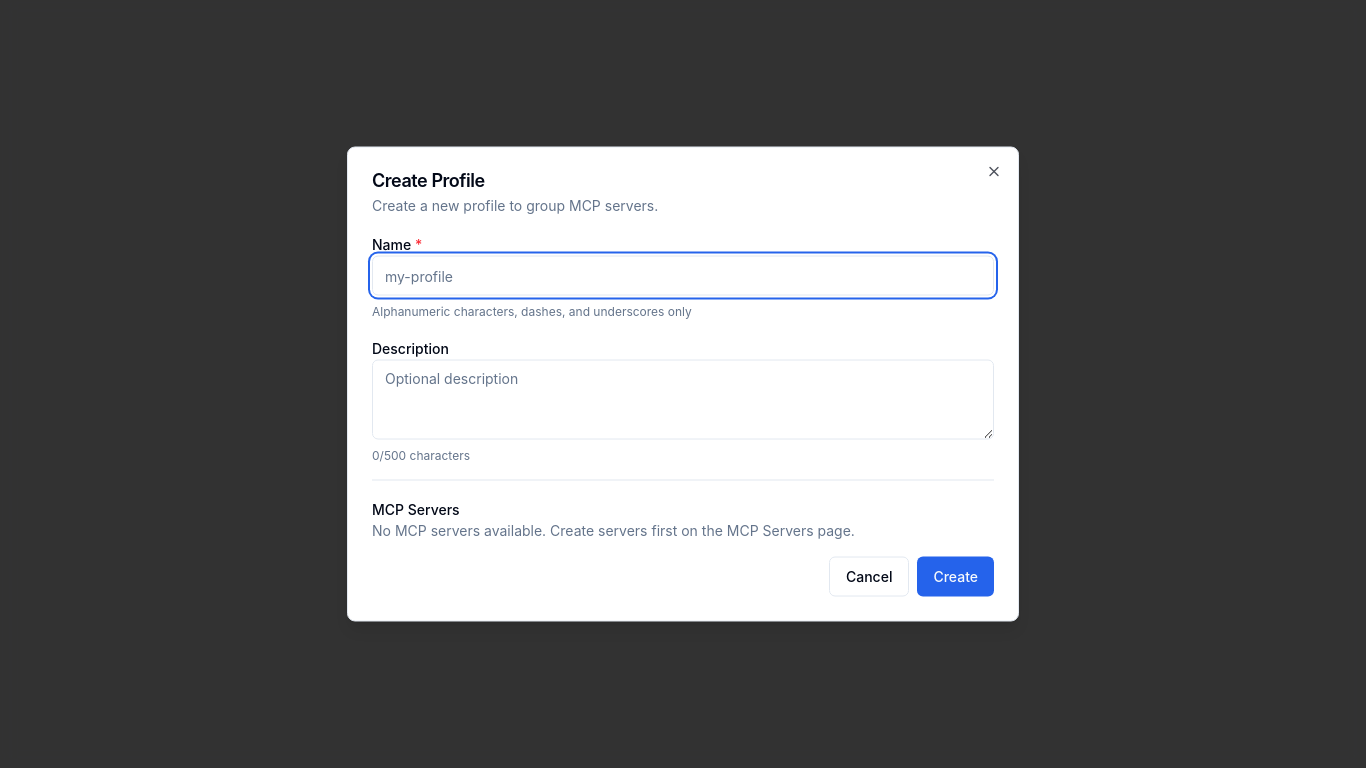
Test: ProfileForm › should handle error on submit
The width and height of the screenshot is (1366, 768).
Expected: the dialog is shown, [347, 146, 1019, 622]
Expected: the heading "Create Profile" is shown, [372, 170, 485, 190]
In the field labelled "Name *": (683, 276) [372, 256, 994, 296], type "test-profile"
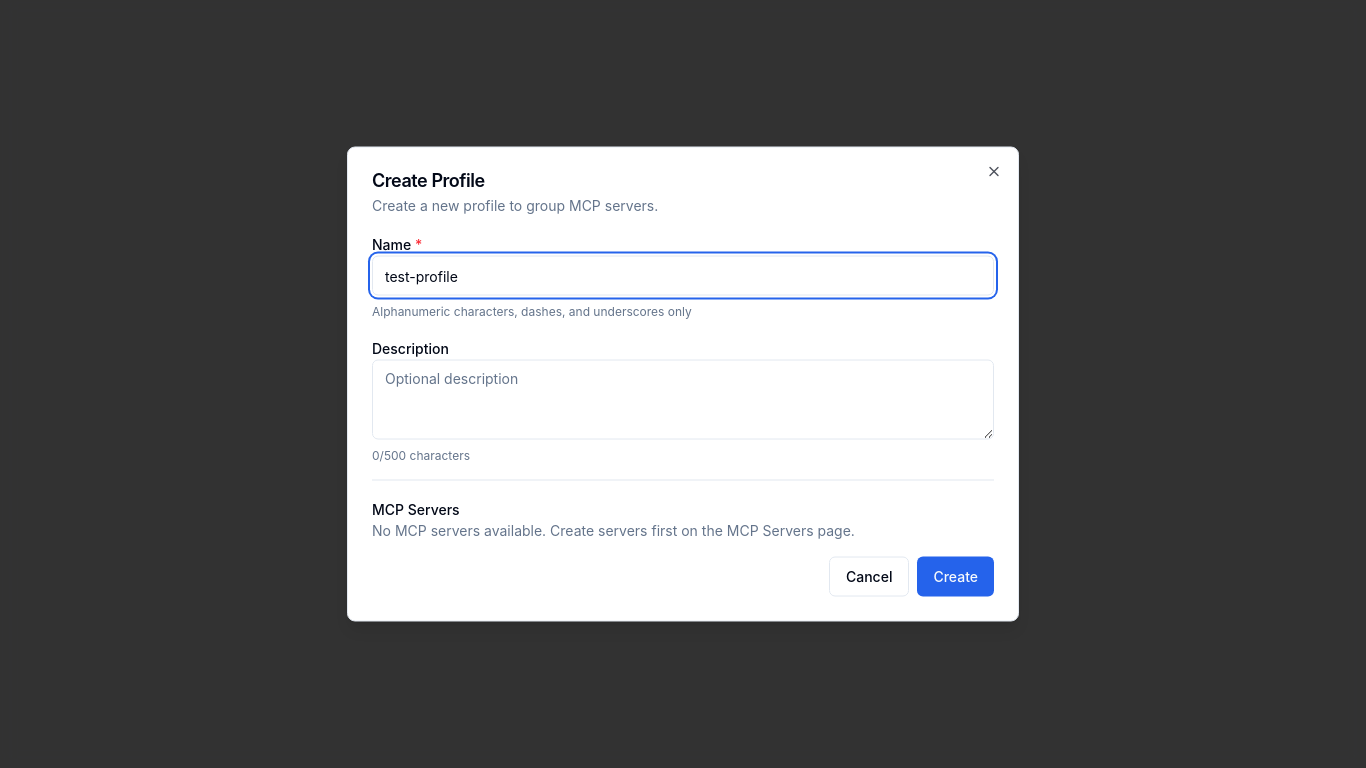
Click the button "Create": (956, 576) [917, 556, 994, 596]
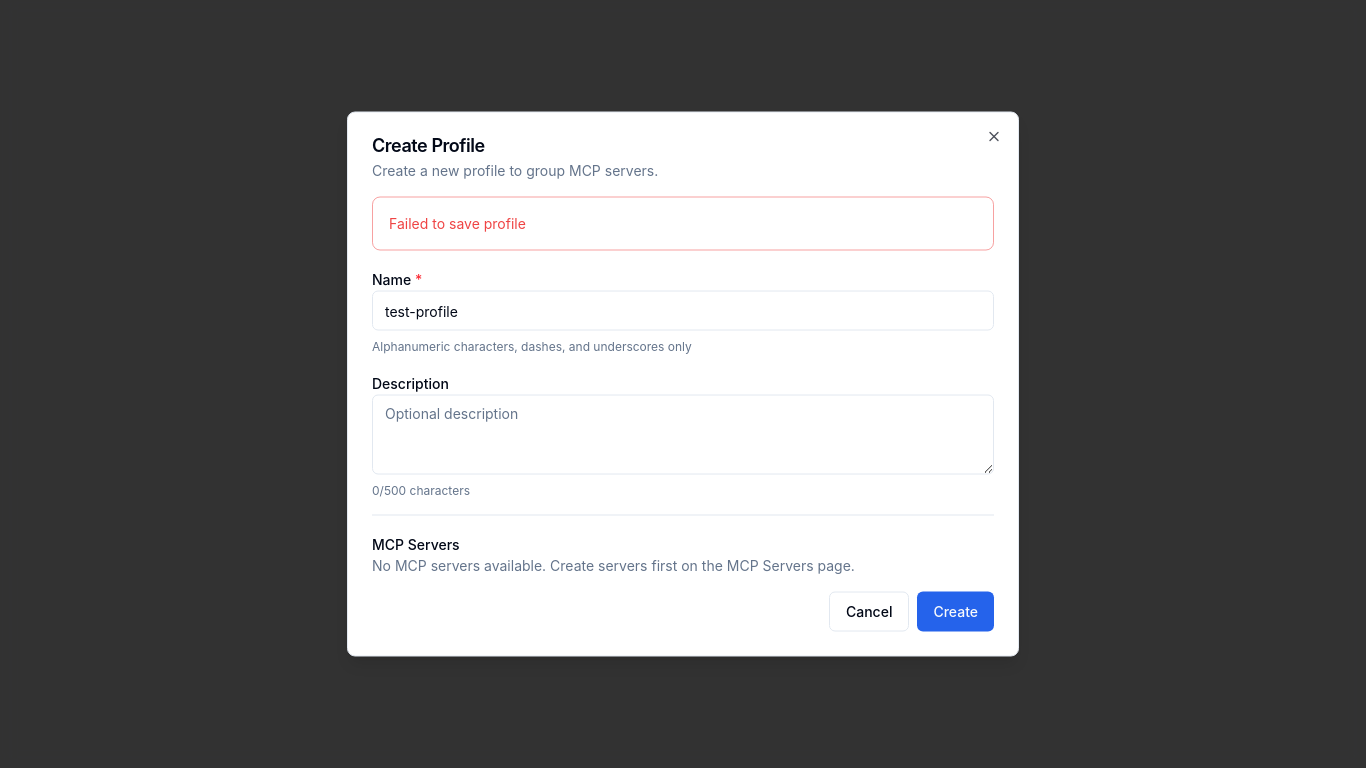
Expected: the text "Failed to save profile" is shown, [389, 214, 526, 232]
